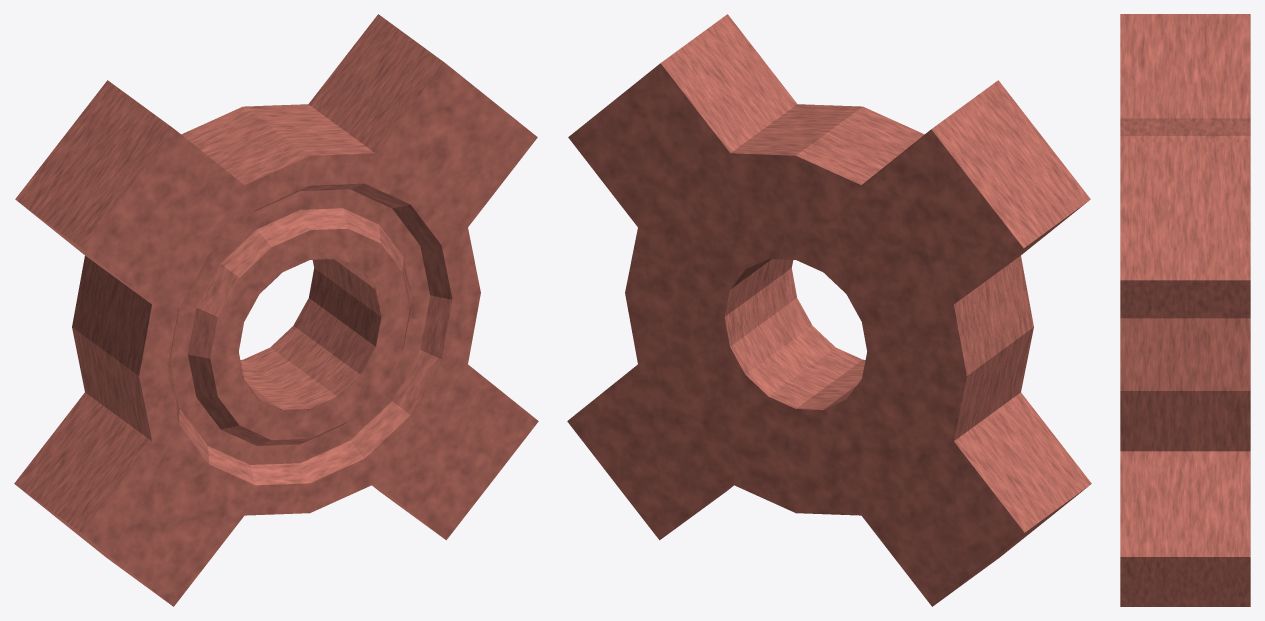
The model's file is SpecialKey-Gear.fbx.
3 views of the same model, side by side, from view 1: azimuth 30°, elevation 25°; view 2: azimuth 150°, elevation 25°; view 3: azimuth 270°, elevation 25° (orthographic). The views are drawn at different scales.
Parts seen in each view (by area): view 1: Key-Gear; view 2: Key-Gear; view 3: Key-Gear.
Part boxes in pixels (box(x1,y1,x2,y2)): Key-Gear: box(14, 14, 538, 606); Key-Gear: box(567, 14, 1091, 606); Key-Gear: box(1120, 14, 1250, 606).
Bounding box in the file's own units: 78.71 × 78.48 × 20.
Materials: 1 (1 with a texture image).
